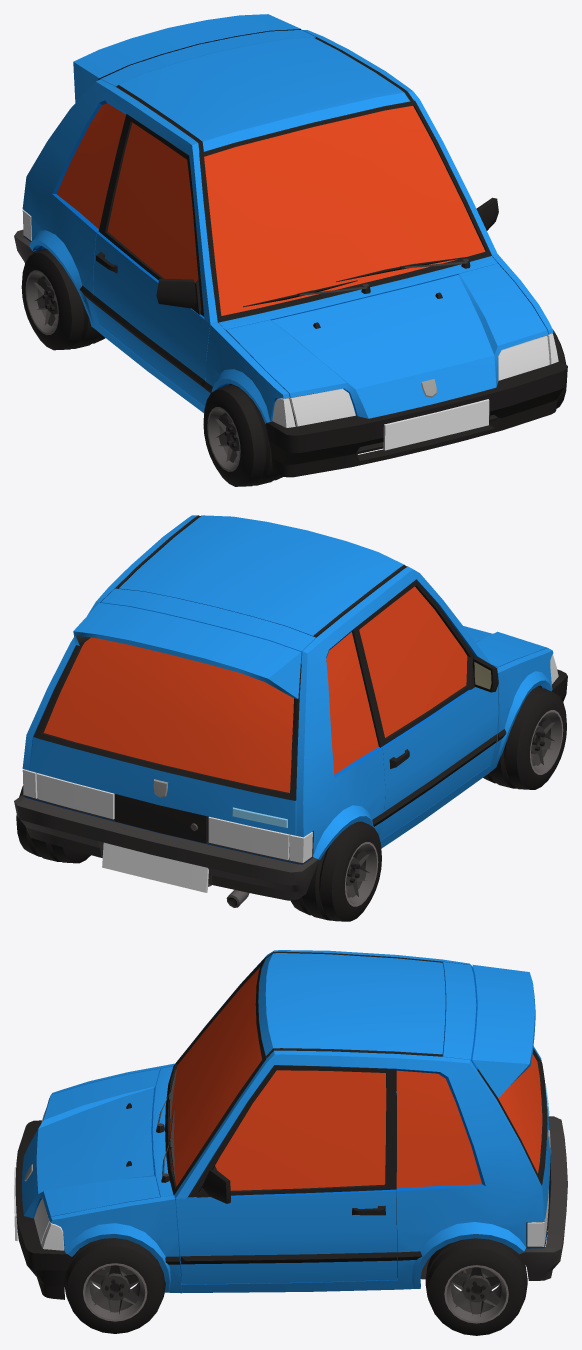
Rendered from car1.fbx.
The picture shows the model from 3 angles, top to bottom: view 1: azimuth 30°, elevation 25°; view 2: azimuth 150°, elevation 25°; view 3: azimuth 270°, elevation 25°; orthographic projection. The views are drawn at different scales.
Parts seen in each view (by area): view 1: Body.002, Bonet.002, Doors_R.001, Bumper_F.002, Bootlid.001, Wheel_FR.002, Wheel_RR.002, Fender_FR.002, Headlight_FR.001, Headlight_FL.001, WindshieldWipers.002, Fender_FL.002; view 2: Bootlid.001, Body.002, Doors_R.001, Bumper_R.002, Wheel_RR.002, Wheel_FR.002, Fender_FR.002, Lights_RR.001, Lights_RL.001, Bonet.002, Wheel_RL.002, Assymetry_1; view 3: Body.002, Doors_L.001, Bonet.002, Bootlid.001, Wheel_RL.002, Wheel_FL.002, Fender_FL.002, Bumper_F.002, Bumper_R.002, WindshieldWipers.002, Lights_RL.001, TurnSignal_FL.001.
Part boxes in pixels (x1,y1,x2,y2): Body.002: [22, 30, 497, 413]; Bonet.002: [226, 263, 548, 418]; Doors_R.001: [92, 114, 210, 406]; Bumper_F.002: [265, 358, 567, 477]; Bootlid.001: [73, 14, 315, 102]; Wheel_FR.002: [203, 383, 295, 486]; Wheel_RR.002: [21, 248, 105, 350]; Fender_FR.002: [204, 322, 289, 423]; Headlight_FR.001: [290, 388, 355, 426]; Headlight_FL.001: [498, 335, 549, 380]; WindshieldWipers.002: [243, 257, 470, 307]; Fender_FL.002: [492, 254, 553, 334]; Bootlid.001: [29, 588, 315, 843]; Body.002: [22, 515, 497, 864]; Doors_R.001: [352, 580, 498, 840]; Bumper_R.002: [14, 794, 318, 900]; Wheel_RR.002: [290, 821, 381, 921]; Wheel_FR.002: [483, 686, 566, 789]; Fender_FR.002: [487, 648, 553, 774]; Lights_RR.001: [208, 816, 312, 862]; Lights_RL.001: [22, 769, 114, 819]; Bonet.002: [463, 626, 547, 667]; Wheel_RL.002: [16, 785, 90, 863]; Assymetry_1: [190, 807, 287, 830]; Body.002: [152, 950, 549, 1292]; Doors_L.001: [176, 1065, 397, 1284]; Bonet.002: [22, 1068, 160, 1219]; Bootlid.001: [443, 962, 550, 1217]; Wheel_RL.002: [425, 1238, 527, 1335]; Wheel_FL.002: [64, 1238, 165, 1333]; Fender_FL.002: [49, 1195, 182, 1293]; Bumper_F.002: [14, 1120, 71, 1299]; Bumper_R.002: [519, 1116, 567, 1280]; WindshieldWipers.002: [156, 1070, 176, 1182]; Lights_RL.001: [527, 1190, 548, 1246]; TurnSignal_FL.001: [41, 1222, 64, 1250].
Size of the model in its own units: 114 by 88.87 by 165.
